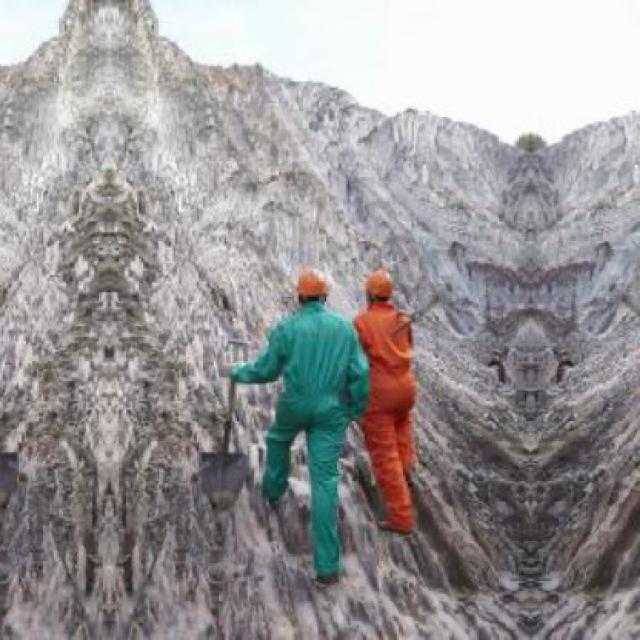con casco: (333, 249, 420, 334), (276, 260, 338, 362)
